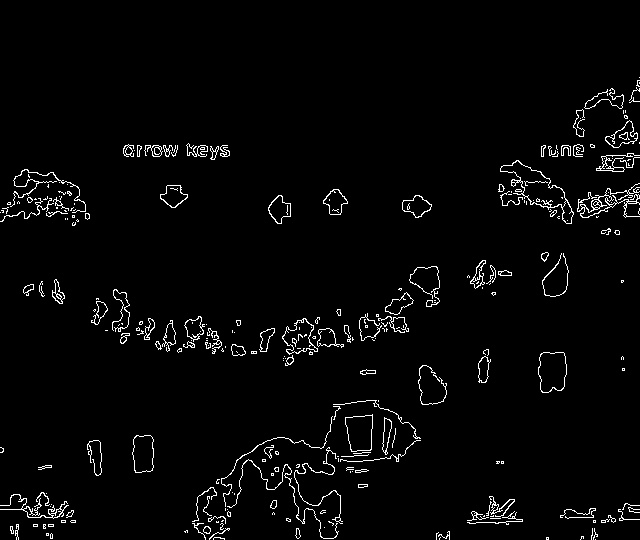down: (151, 179, 194, 217)
left: (261, 190, 299, 228)
right: (399, 190, 440, 228)
up: (319, 182, 355, 221)
